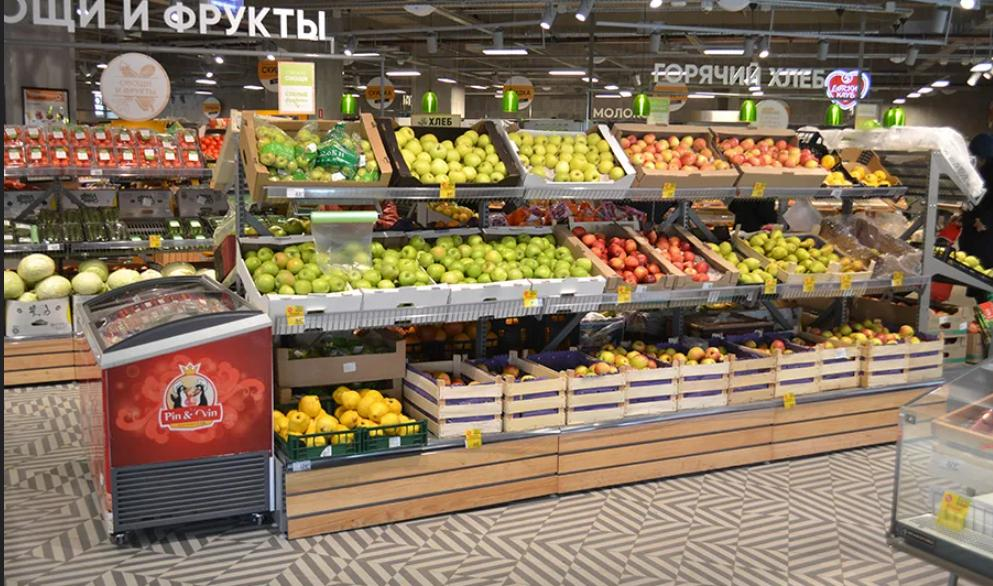cabbage: (4, 254, 71, 300), (110, 263, 216, 290), (73, 259, 114, 294)
green apple: (243, 235, 590, 304), (253, 123, 382, 198), (560, 338, 722, 392), (402, 120, 506, 192), (512, 128, 624, 188), (832, 320, 920, 356), (747, 326, 836, 361)
lemon: (274, 385, 420, 447)
pear: (750, 230, 862, 276), (706, 240, 772, 286)
pomegranate: (574, 226, 709, 286)
red apple: (624, 123, 730, 174), (726, 140, 818, 170)
